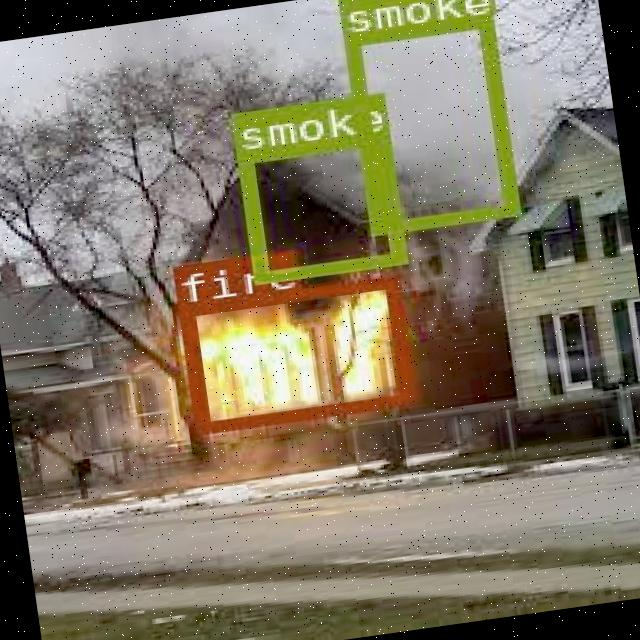fire: (176, 275, 414, 433)
smoke: (343, 16, 516, 234), (234, 132, 405, 282)
